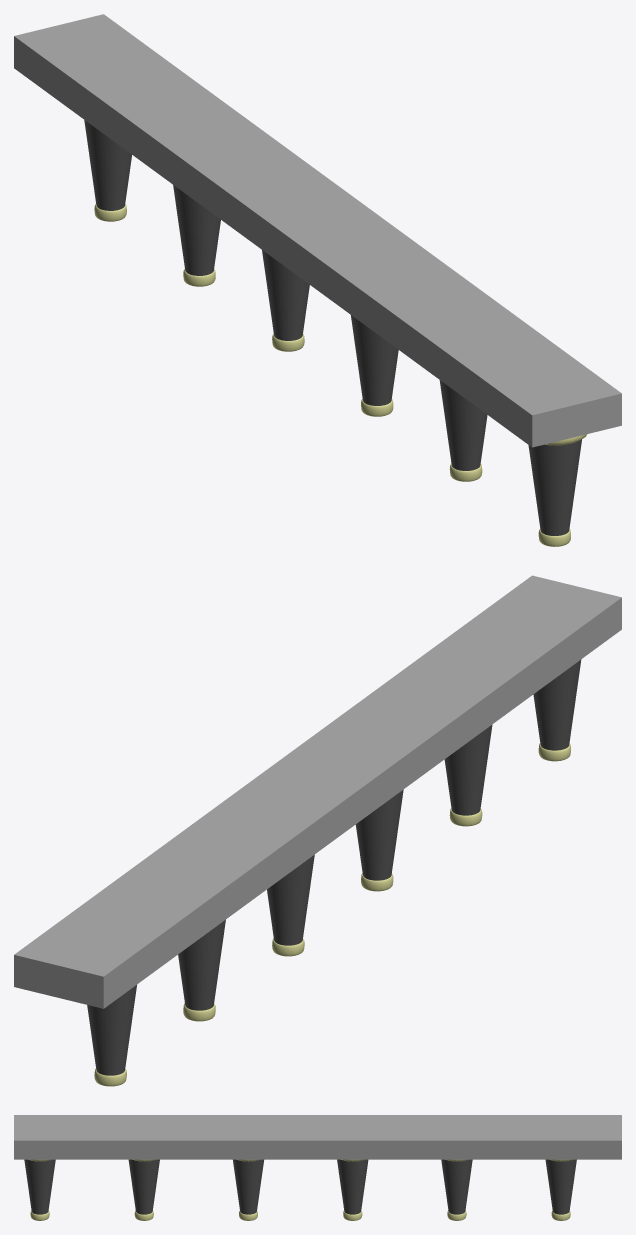
Rendered from moticlieit.fbx.
3 renders of one model, top to bottom at view 1: azimuth 30°, elevation 25°; view 2: azimuth 150°, elevation 25°; view 3: azimuth 270°, elevation 25°, orthographic. The views are drawn at different scales.
Visible parts, largest first — view 1: pCube1, pCylinder1 (×6); view 2: pCube1, pCylinder1 (×6); view 3: pCube1, pCylinder1 (×6).
Boxes of the visible parts, left/top/right/bottom form: pCube1: left=14, top=14, right=621, bottom=447; pCylinder1 (×6): left=84, top=120, right=581, bottom=535; pCube1: left=14, top=575, right=621, bottom=1008; pCylinder1 (×6): left=87, top=659, right=581, bottom=1075; pCube1: left=14, top=1115, right=621, bottom=1159; pCylinder1 (×6): left=24, top=1159, right=576, bottom=1214.
Size of the model in its own units: 1.75 by 2.84 by 17.5.
